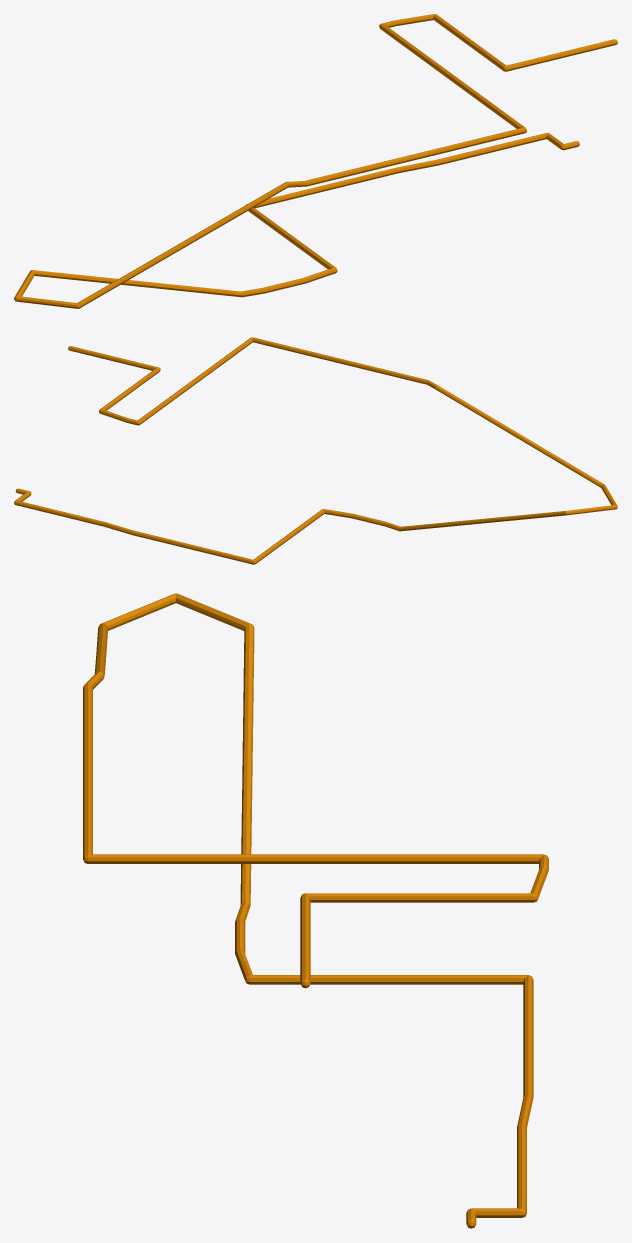
3 renders of one model, top to bottom at view 1: azimuth 30°, elevation 25°; view 2: azimuth 150°, elevation 25°; view 3: azimuth 270°, elevation 25°, orthographic. The views are drawn at different scales.
Size of the model in its own units: 2406 by 520 by 920.
